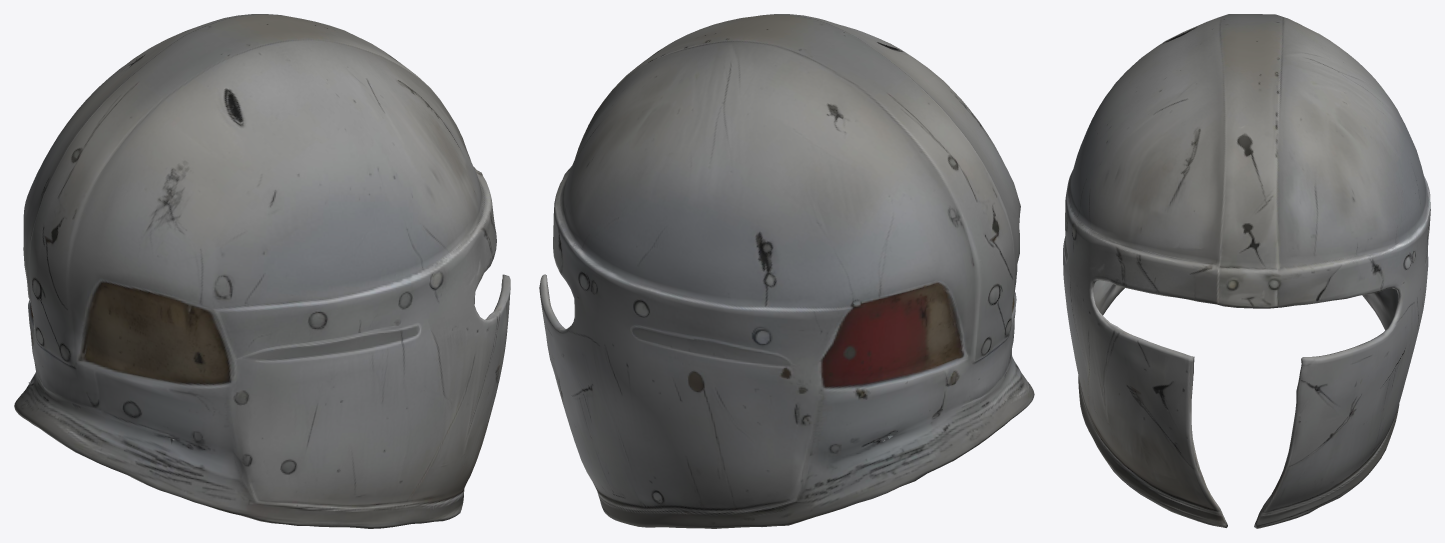
Rendered from OldHelmet.fbx.
The picture shows the model from 3 angles, left to right: view 1: azimuth 30°, elevation 25°; view 2: azimuth 150°, elevation 25°; view 3: azimuth 270°, elevation 25°; orthographic projection. The views are drawn at different scales.
Parts seen in each view (by area): view 1: tripo_node_8945253c; view 2: tripo_node_8945253c; view 3: tripo_node_8945253c.
Boxes of the visible parts, x1,y1,x2,y2 form: tripo_node_8945253c: (14, 14, 510, 528); tripo_node_8945253c: (539, 14, 1034, 528); tripo_node_8945253c: (1063, 14, 1430, 528).
Bounding box in the file's own units: 92.65 × 99.75 × 78.33.
1 material, 1 textured.
